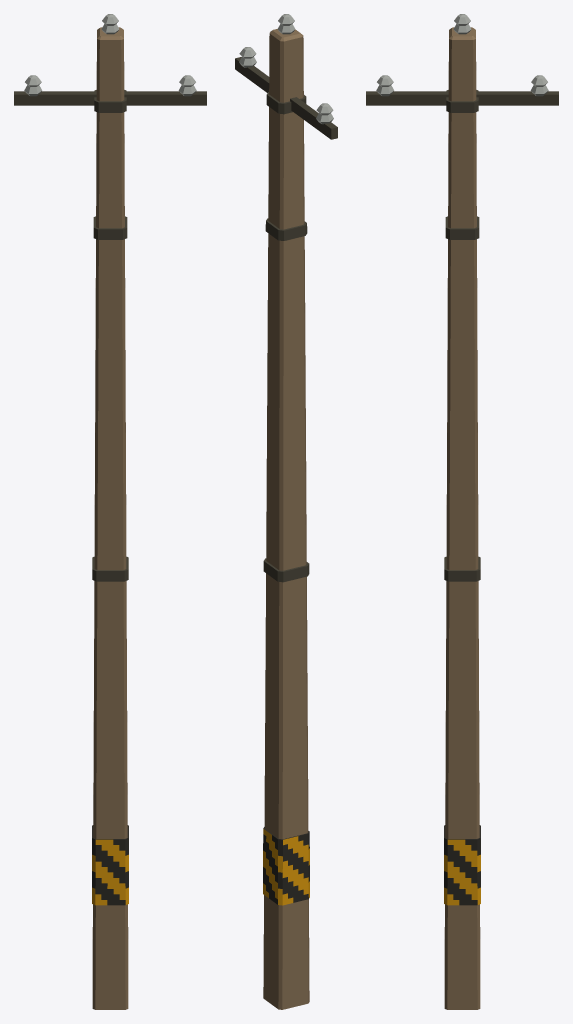
Rendered from SM_Street_PowerPole_Hazard_01.fbx.
3 renders of one model, left to right at view 1: azimuth 90°, elevation 25°; view 2: azimuth 210°, elevation 25°; view 3: azimuth 270°, elevation 25°, orthographic.
Visible parts, largest first — view 1: SM_Street_PowerPole_Hazard_01; view 2: SM_Street_PowerPole_Hazard_01; view 3: SM_Street_PowerPole_Hazard_01.
Part boxes in pixels (bbox=[...]): SM_Street_PowerPole_Hazard_01: bbox=[14, 14, 206, 1009]; SM_Street_PowerPole_Hazard_01: bbox=[235, 14, 337, 1009]; SM_Street_PowerPole_Hazard_01: bbox=[366, 14, 558, 1009].
Size of the model in its own units: 0.1934 by 5.65 by 1.
1 material, 1 textured.
